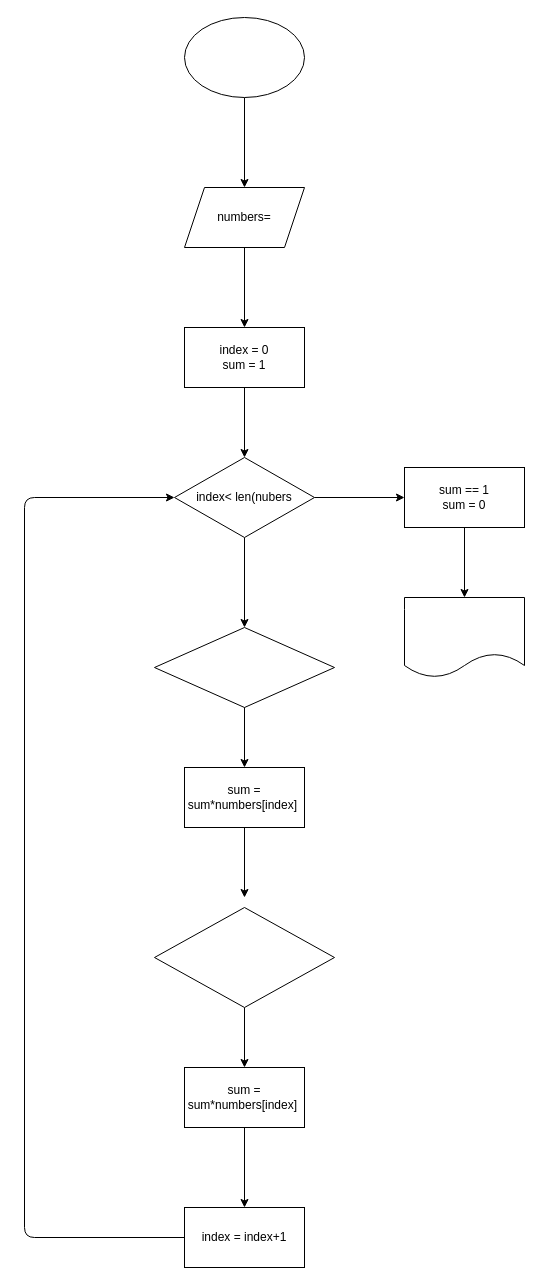
The diagram is 542 pixels wide and 1285 high, and some of its shapes have lost their labels. Each missing label, with the box of its shape:
numbers[index] % 3 ==0: (154, 626, 334, 708)
numbers[index] % 5 ==0: (154, 906, 334, 1008)
print(sun): (404, 596, 524, 678)
start: (184, 16, 304, 98)
